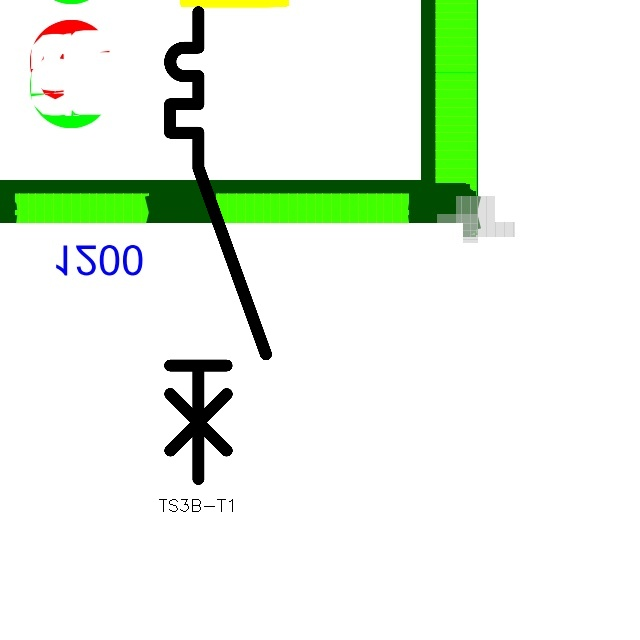interruptor_termomagnetico: (158, 0, 278, 491)
